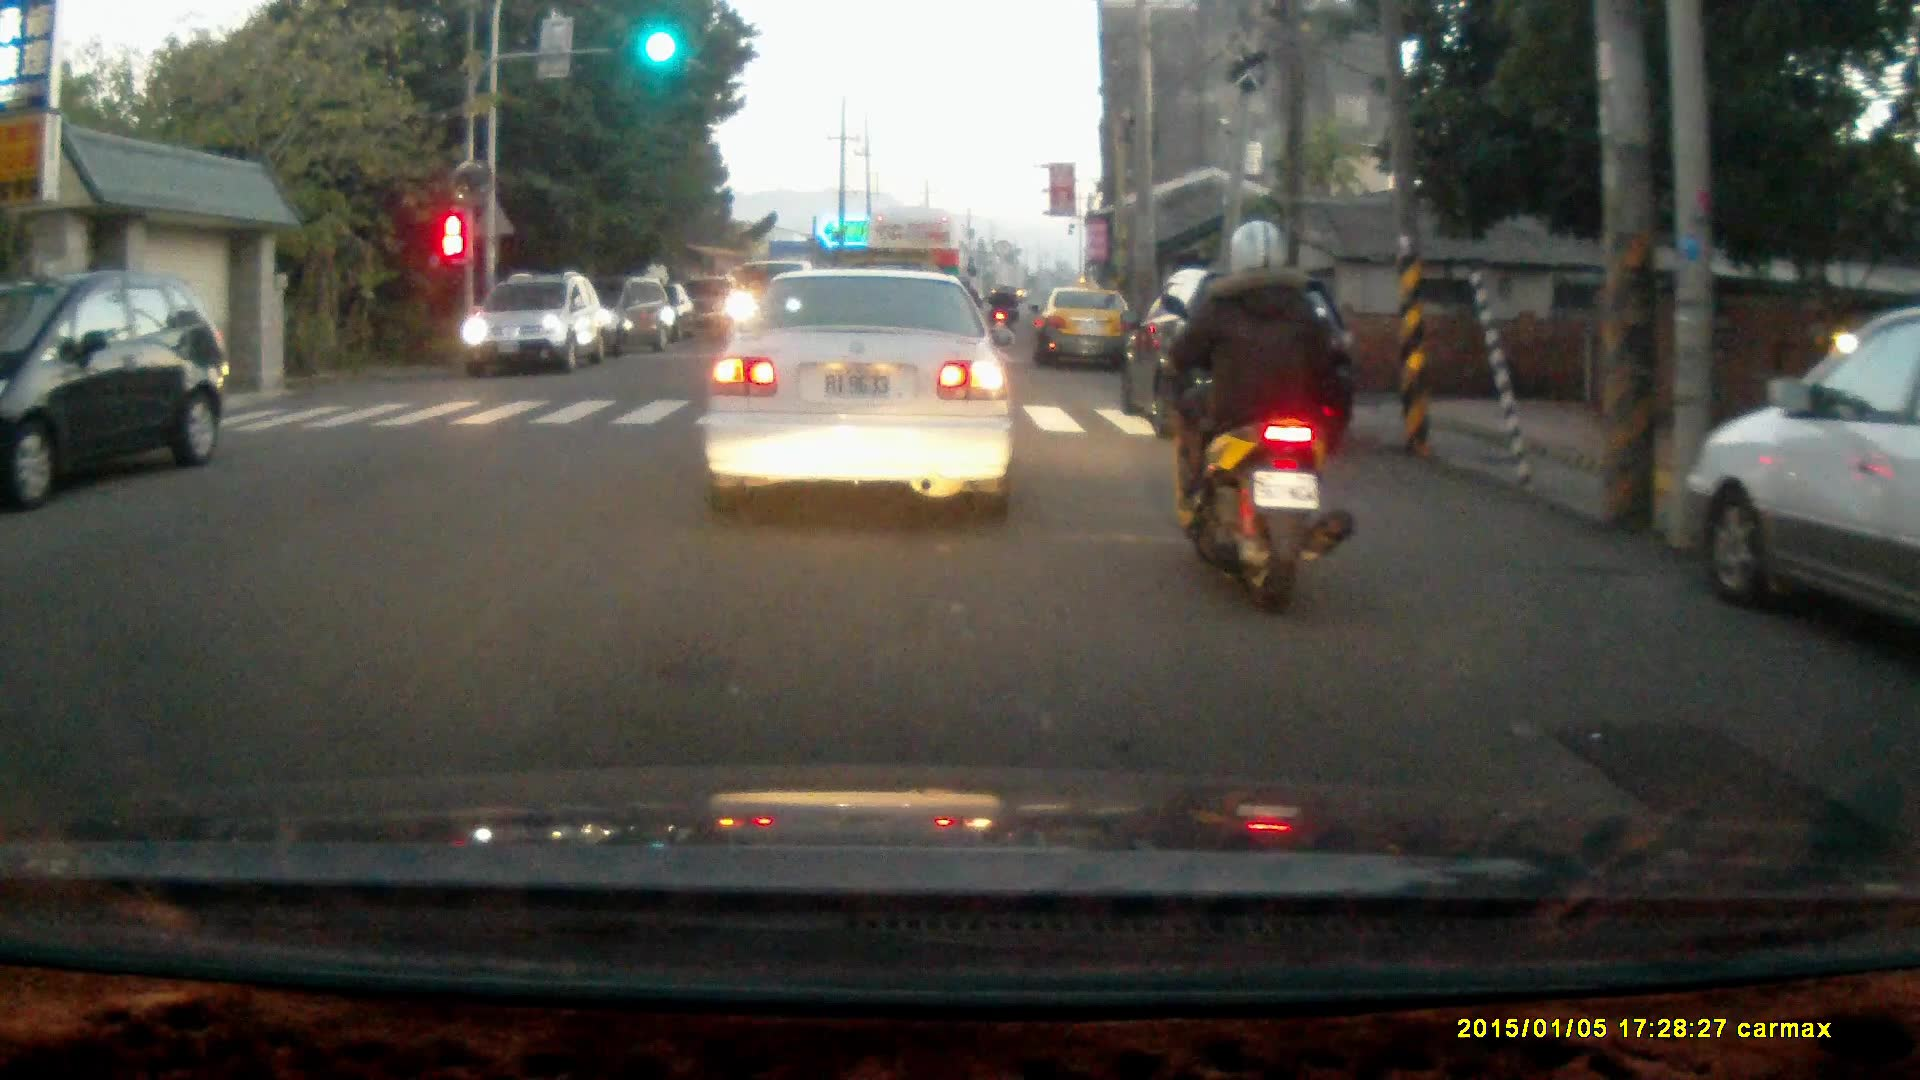rider: (1156, 218, 1356, 621)
vehicle: (696, 265, 1019, 525), (1694, 305, 1920, 634), (1, 274, 228, 510), (1113, 277, 1359, 457), (867, 209, 969, 360), (463, 279, 605, 376), (555, 278, 676, 365), (1033, 289, 1137, 377)
